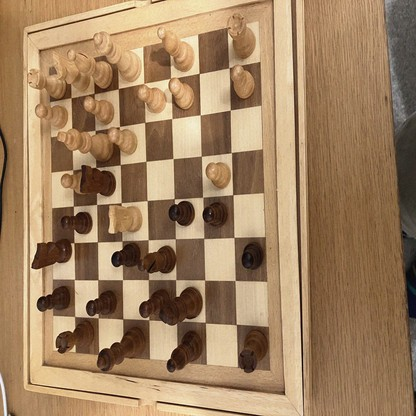bishop_black: (167, 332, 203, 371), (139, 245, 176, 272)
bishop_white: (66, 49, 112, 86), (159, 27, 193, 69)
king_black: (161, 287, 202, 324)
king_white: (58, 128, 113, 159)
knight_black: (81, 167, 116, 195), (32, 243, 71, 267)
knight_white: (53, 51, 90, 90), (110, 204, 142, 233)
pawn_black: (139, 291, 170, 316), (168, 201, 196, 226), (86, 292, 116, 315), (38, 287, 69, 309), (113, 243, 140, 268), (62, 213, 92, 234), (204, 202, 228, 224), (243, 244, 261, 267)
pawn_white: (84, 97, 115, 123), (170, 77, 194, 109), (138, 86, 166, 113), (232, 65, 254, 98), (36, 103, 68, 125), (109, 130, 137, 152), (207, 163, 230, 188), (62, 174, 85, 195)
queen_black: (99, 329, 146, 371)
queen_white: (95, 30, 141, 83)
rock_black: (239, 331, 267, 372), (57, 322, 93, 352)
rock_white: (227, 12, 256, 58), (27, 69, 68, 97)
